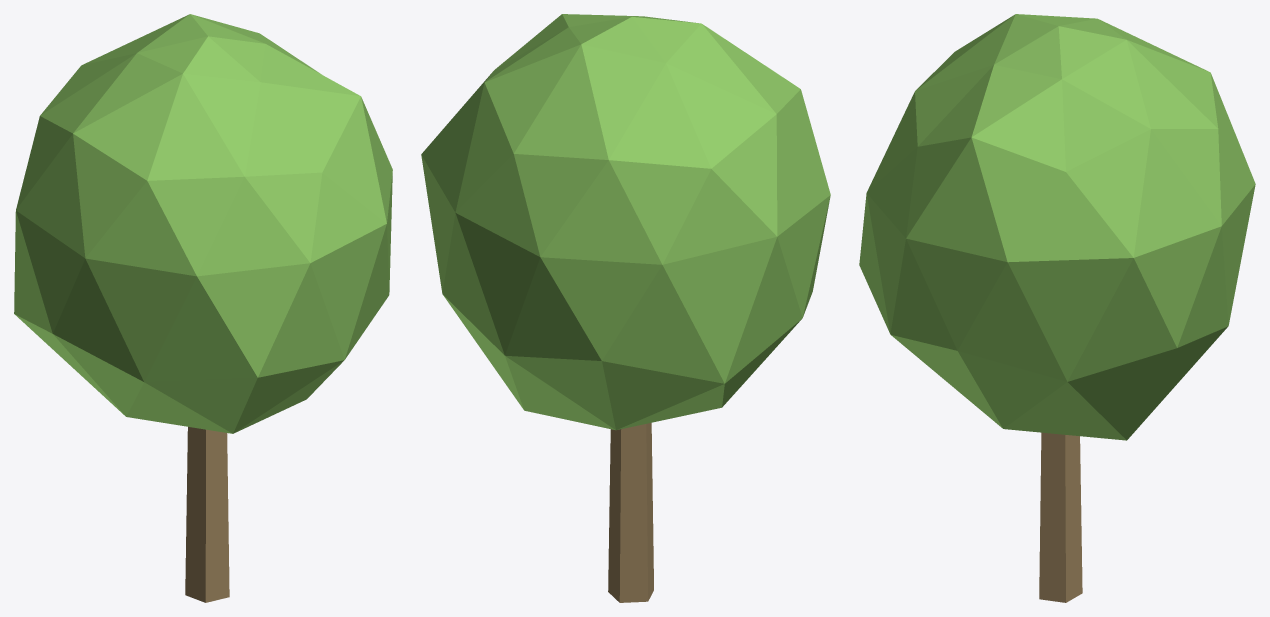
File: Thuja_Tree_s_05_LOD.fbx
3 renders of one model, left to right at view 1: azimuth 30°, elevation 25°; view 2: azimuth 150°, elevation 25°; view 3: azimuth 270°, elevation 25°, orthographic. The views are drawn at different scales.
Visible parts, largest first — view 1: Thuja_Tree_s_05_LOD0; view 2: Thuja_Tree_s_05_LOD0; view 3: Thuja_Tree_s_05_LOD0.
Boxes of the visible parts, box(x1,y1,x2,y2) form: Thuja_Tree_s_05_LOD0: box(14, 14, 392, 602); Thuja_Tree_s_05_LOD0: box(421, 14, 830, 602); Thuja_Tree_s_05_LOD0: box(859, 14, 1255, 602).
Size of what is drawn, in the model's own units: 182 by 292 by 185.
